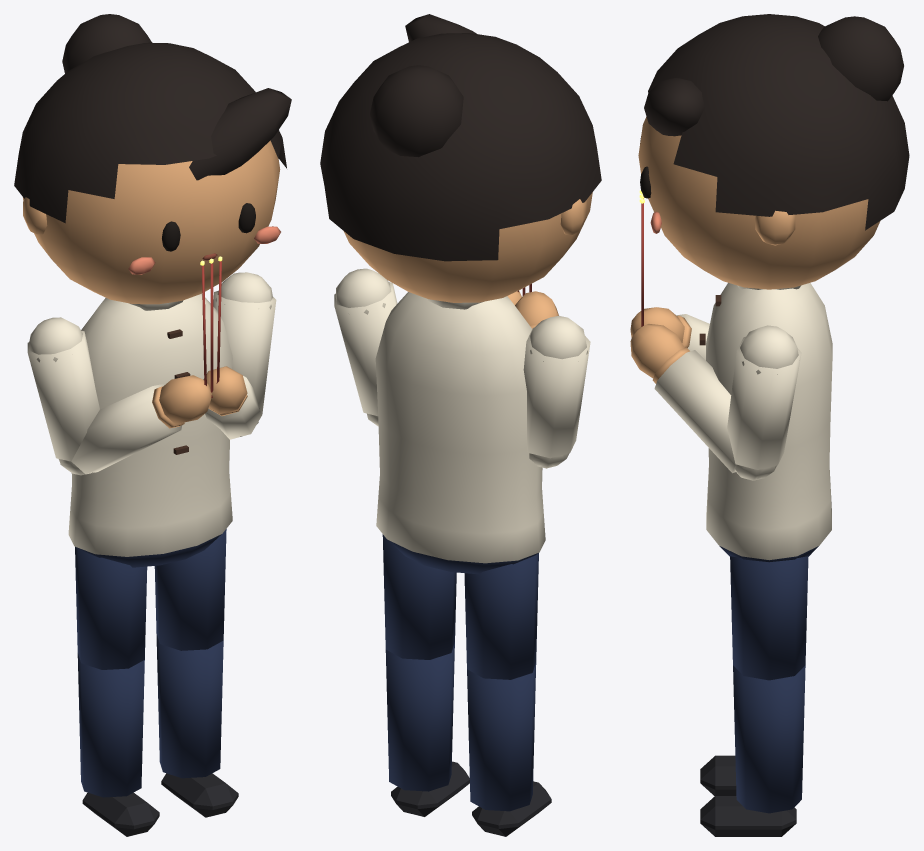
File: east_incense_woman.glb
3 renders of one model, left to right at view 1: azimuth 30°, elevation 25°; view 2: azimuth 150°, elevation 25°; view 3: azimuth 270°, elevation 25°, orthographic. The views are drawn at different scales.
Parts seen in each view (by area): view 1: head, body, shin_L, shin_R, leg_R, arm_R, forearm_R, leg_L, arm_L, forearm_L, prop_incense; view 2: head, body, shin_R, shin_L, leg_R, arm_R, leg_L, arm_L, forearm_R; view 3: head, body, shin_L, leg_L, arm_L, forearm_L, forearm_R, shin_R.
Part boxes in pixels (x1,y1,x2,y2): head: [14, 14, 291, 304]; body: [68, 293, 232, 567]; shin_L: [156, 633, 238, 817]; shin_R: [77, 653, 159, 836]; leg_R: [75, 547, 147, 669]; arm_R: [27, 317, 99, 475]; forearm_R: [58, 375, 211, 474]; leg_L: [154, 529, 226, 650]; arm_L: [213, 272, 276, 436]; forearm_L: [203, 366, 262, 439]; prop_incense: [200, 256, 222, 397]; head: [320, 14, 601, 302]; body: [375, 292, 545, 574]; shin_R: [467, 662, 551, 836]; shin_L: [385, 642, 469, 816]; leg_R: [464, 553, 538, 679]; arm_R: [523, 315, 590, 468]; leg_L: [382, 534, 456, 659]; arm_L: [334, 268, 397, 426]; forearm_R: [515, 291, 564, 465]; head: [638, 14, 909, 289]; body: [699, 282, 832, 562]; shin_L: [700, 665, 805, 836]; leg_L: [730, 556, 808, 680]; arm_L: [727, 325, 801, 480]; forearm_L: [630, 324, 771, 479]; forearm_R: [630, 307, 709, 360]; shin_R: [700, 755, 736, 796].
Bounding box in the file's own units: 0.492 × 1.47 × 0.4702.
